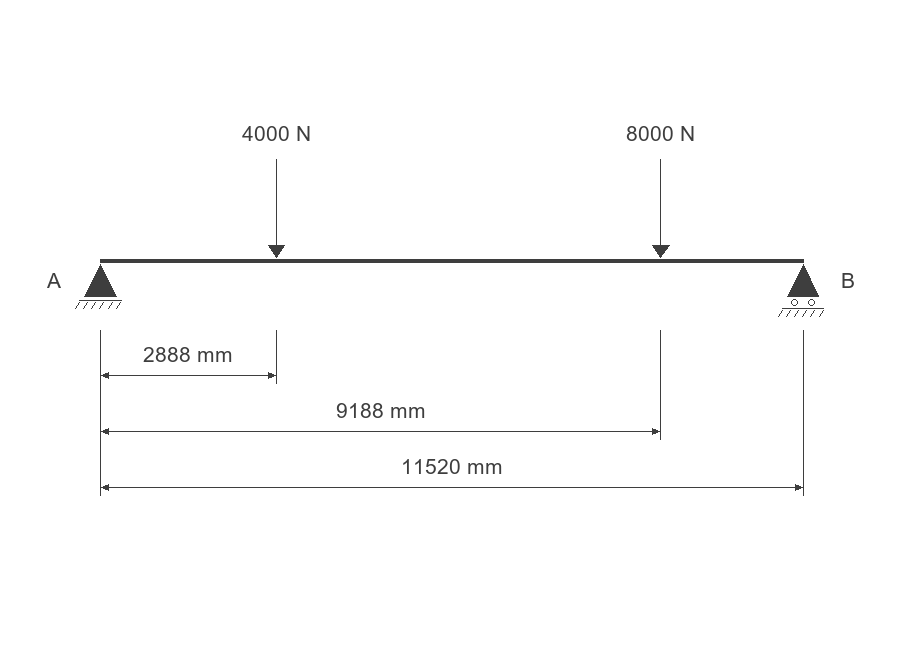pin_support: (75, 264, 122, 309)
point_load: (652, 159, 670, 258), (268, 159, 285, 258)
roller_support: (778, 264, 824, 317)
